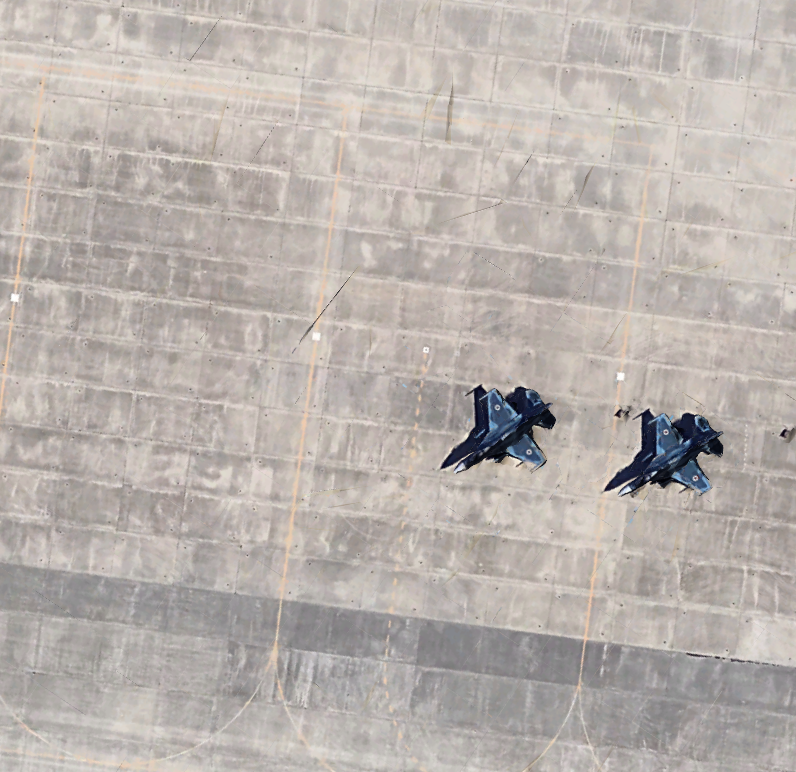A5: (448, 375, 561, 483), (615, 404, 728, 512)
